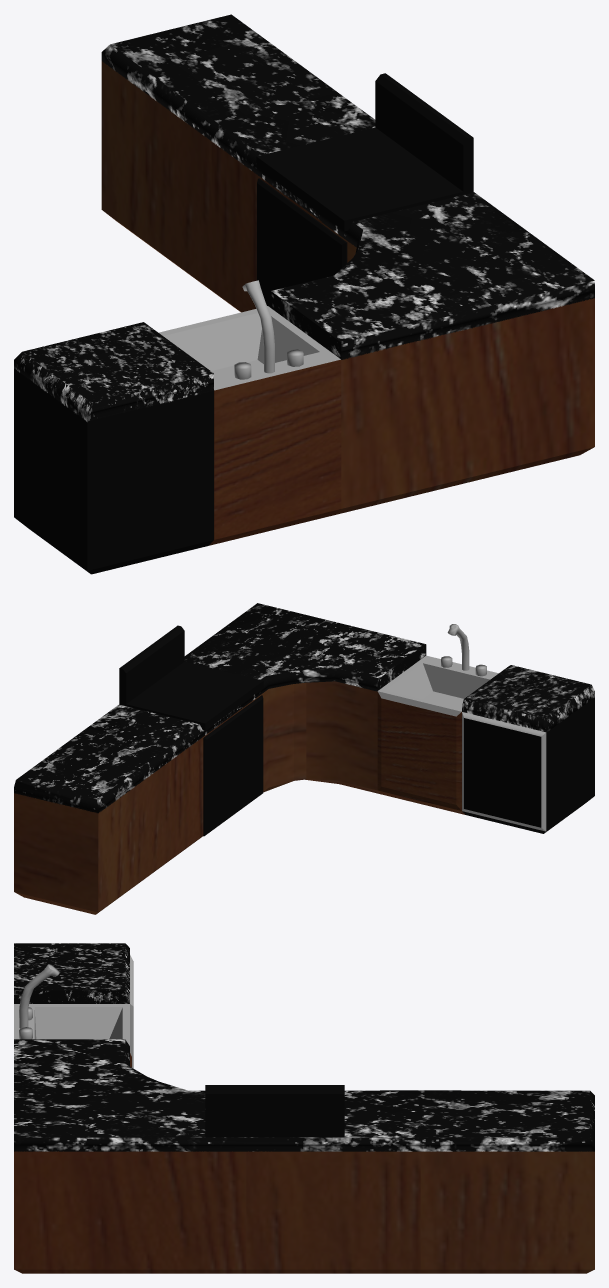
The model's file is counter01.fbx.
The picture shows the model from 3 angles, top to bottom: view 1: azimuth 30°, elevation 25°; view 2: azimuth 150°, elevation 25°; view 3: azimuth 270°, elevation 25°; orthographic projection. The views are drawn at different scales.
Parts seen in each view (by area): view 1: polySurface17, polySurface16, polySurface3, polySurface5, polySurface1, pCube2, pCube3, pCube1, pCylinder1; view 2: polySurface17, polySurface16, polySurface3, polySurface5, pCube3, polySurface1, pCube2, pCube1, pCylinder1; view 3: polySurface17, polySurface16, polySurface1, pCube1, polySurface5, pCube2, pCylinder1.
Part boxes in pixels (x1,y1,x2,y2): polySurface17: (101, 61, 594, 514); polySurface16: (101, 14, 594, 359); polySurface3: (14, 368, 213, 574); polySurface5: (159, 306, 341, 545); polySurface1: (14, 322, 213, 421); pCube2: (256, 127, 471, 231); pCube3: (257, 178, 347, 305); pCube1: (375, 73, 473, 192); pCylinder1: (242, 280, 274, 373); polySurface17: (14, 681, 380, 914); polySurface16: (14, 603, 426, 813); polySurface3: (462, 697, 594, 833); polySurface5: (377, 655, 498, 814); pCube3: (203, 695, 263, 836); polySurface1: (462, 665, 594, 732); pCube2: (121, 661, 263, 730); pCube1: (119, 625, 184, 704); pCylinder1: (447, 624, 469, 670); polySurface17: (14, 1151, 594, 1273); polySurface16: (14, 1039, 594, 1151); polySurface1: (14, 943, 129, 1003); pCube1: (205, 1092, 344, 1137); polySurface5: (14, 1004, 131, 1067); pCube2: (205, 1085, 344, 1091); pCylinder1: (19, 964, 59, 1028).
Bounding box in the file's own units: 200 × 89.72 × 250.
4 materials, 2 textured.
